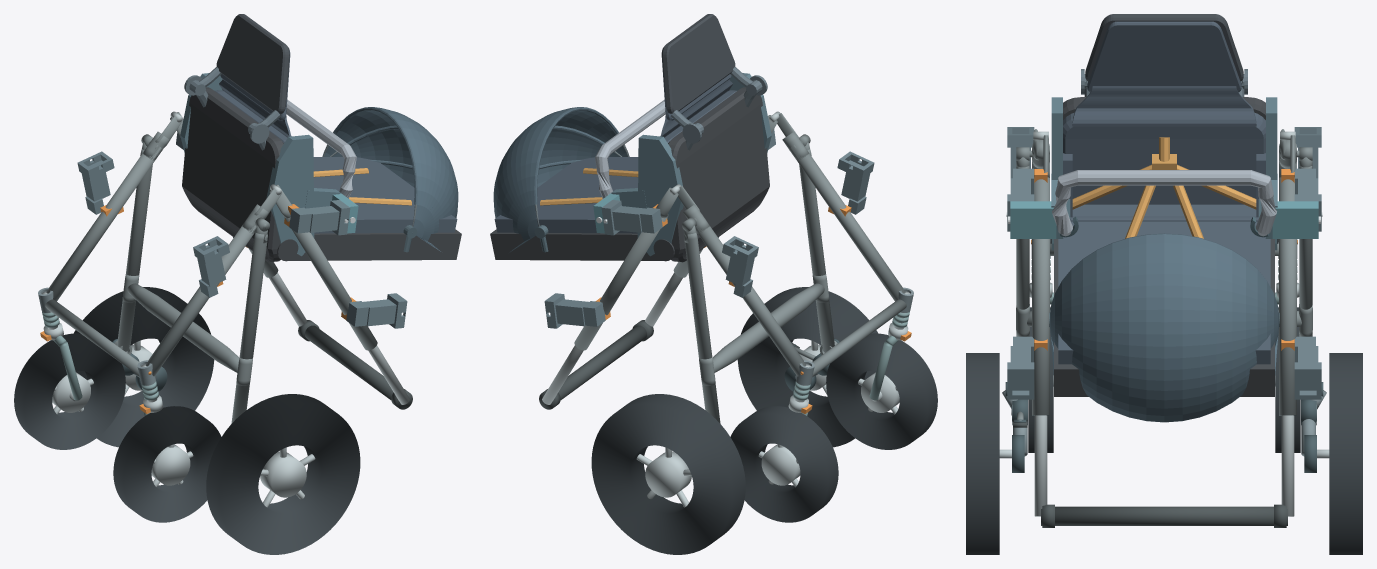
Rendered from S05_w550_state3_wheel_L.glb.
3 views of the same model, side by side, from view 1: azimuth 30°, elevation 25°; view 2: azimuth 150°, elevation 25°; view 3: azimuth 270°, elevation 25° (orthographic). The views are drawn at different scales.
Parts seen in each view (by area): view 1: S05_Cabin, RL_tire.002, FR_tire.002, FL_tire.002, RR_tire.002, S05_Cabin_Mount_M, main_lower_1.003, V46_rear_leg_-1.003, V46_rear_leg_1.003, V46_rearbar.003, main_lower_-1.003, main_upper_-1.003 (+12 smaller); view 2: S05_Cabin, RR_tire.002, FL_tire.002, FR_tire.002, RL_tire.002, S05_Cabin_Mount_M, main_lower_-1.003, V46_rear_leg_1.003, V46_rear_leg_-1.003, V46_rearbar.003, main_lower_1.003, main_upper_1.003 (+12 smaller); view 3: S05_Cabin, RL_tire.002, RR_tire.002, S05_Cabin_Mount_M, round_handle.002, main_upper_1.003, main_upper_-1.003, Universal_Cabin_Receiver_H_1, Universal_Cabin_Receiver_H_-1, handle_slider_1.002, handle_slider_-1.002, V46_rear_leg_1.003 (+9 smaller).
Boxes of the visible parts, left/top/right/bottom form: S05_Cabin: left=182, top=14, right=461, bottom=262; RL_tire.002: left=206, top=394, right=360, bottom=554; FR_tire.002: left=14, top=333, right=125, bottom=449; FL_tire.002: left=113, top=406, right=221, bottom=522; RR_tire.002: left=73, top=287, right=214, bottom=447; S05_Cabin_Mount_M: left=180, top=73, right=358, bottom=256; main_lower_1.003: left=46, top=147, right=161, bottom=301; V46_rear_leg_-1.003: left=231, top=232, right=267, bottom=423; V46_rear_leg_1.003: left=117, top=149, right=152, bottom=351; V46_rearbar.003: left=127, top=283, right=239, bottom=372; main_lower_-1.003: left=145, top=225, right=256, bottom=376; main_upper_-1.003: left=284, top=217, right=377, bottom=350; S05_Cabin: left=490, top=14, right=769, bottom=262; RR_tire.002: left=591, top=394, right=745, bottom=554; FL_tire.002: left=826, top=333, right=937, bottom=449; FR_tire.002: left=730, top=406, right=838, bottom=522; RL_tire.002: left=737, top=287, right=878, bottom=447; S05_Cabin_Mount_M: left=593, top=73, right=771, bottom=256; main_lower_-1.003: left=790, top=147, right=905, bottom=301; V46_rear_leg_1.003: left=684, top=232, right=720, bottom=423; V46_rear_leg_-1.003: left=799, top=149, right=834, bottom=351; V46_rearbar.003: left=712, top=283, right=824, bottom=372; main_lower_1.003: left=695, top=225, right=806, bottom=376; main_upper_1.003: left=574, top=214, right=668, bottom=350; S05_Cabin: left=1049, top=14, right=1279, bottom=422; RL_tire.002: left=966, top=353, right=999, bottom=554; RR_tire.002: left=1329, top=353, right=1362, bottom=554; S05_Cabin_Mount_M: left=1006, top=97, right=1322, bottom=250; round_handle.002: left=1041, top=506, right=1287, bottom=525; main_upper_1.003: left=1279, top=177, right=1296, bottom=415; main_upper_-1.003: left=1032, top=177, right=1049, bottom=415; Universal_Cabin_Receiver_H_1: left=1294, top=336, right=1321, bottom=399; Universal_Cabin_Receiver_H_-1: left=1007, top=336, right=1034, bottom=399; handle_slider_1.002: left=1281, top=415, right=1294, bottom=516; handle_slider_-1.002: left=1034, top=415, right=1047, bottom=516; V46_rear_leg_1.003: left=1299, top=166, right=1312, bottom=336.
Size of the model in its own units: 0.9653 by 1.11 by 0.7071.
